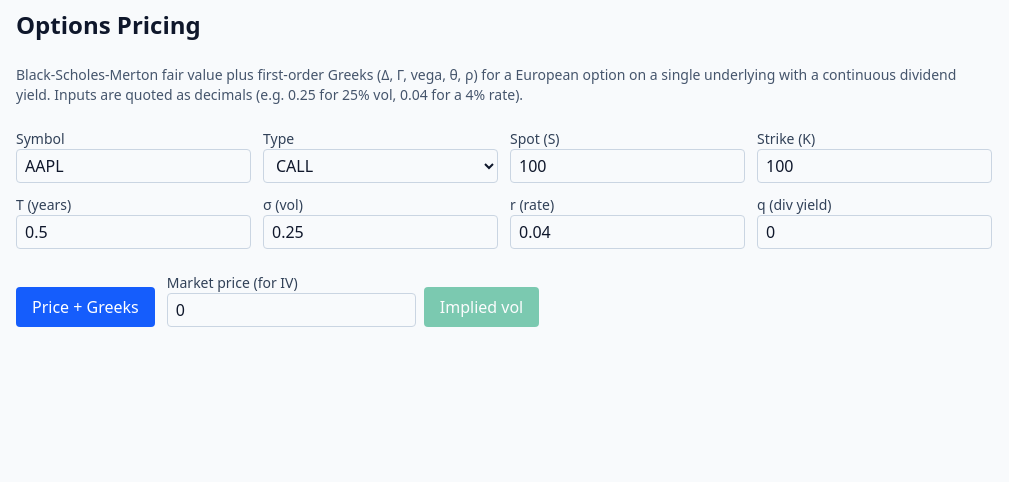
it: Options page › solves implied vol when a market price is supplied
Step 1. Replace the text in the number field with test id "opt-market-price" with "5.12" → coordinates (291, 310), box [167,293,416,327]
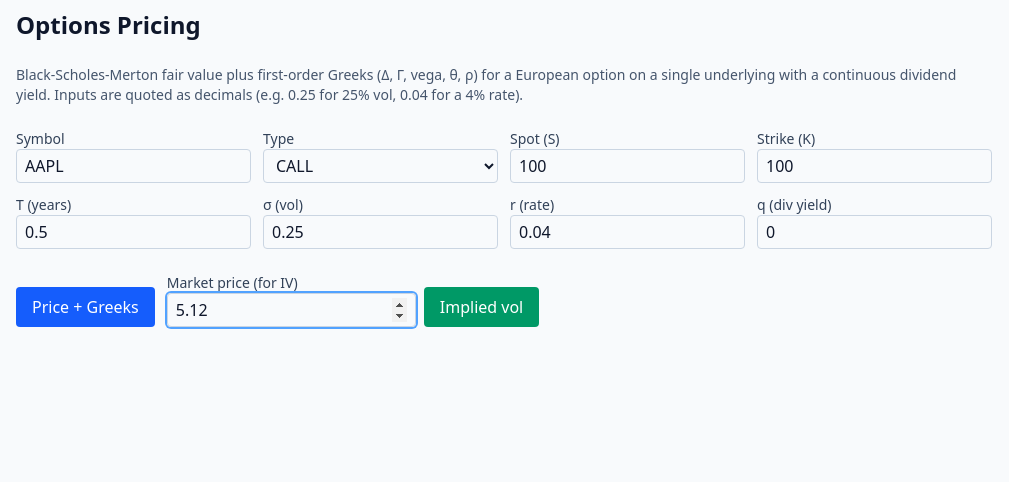
Step 2. Click the button with test id "opt-iv-btn" → coordinates (482, 307), box [424,287,539,327]
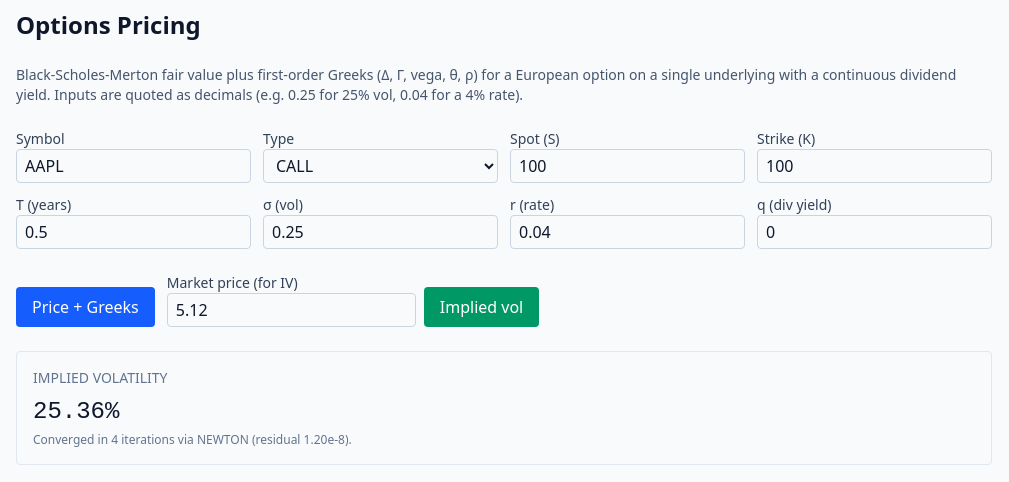
Check: the text with test id "opt-iv-value" reads "25.36%", box [33,398,119,425]
